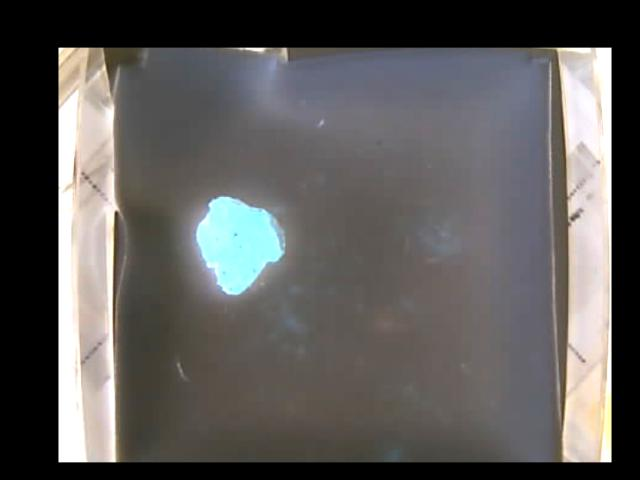Brisk: (195, 195, 284, 293)
